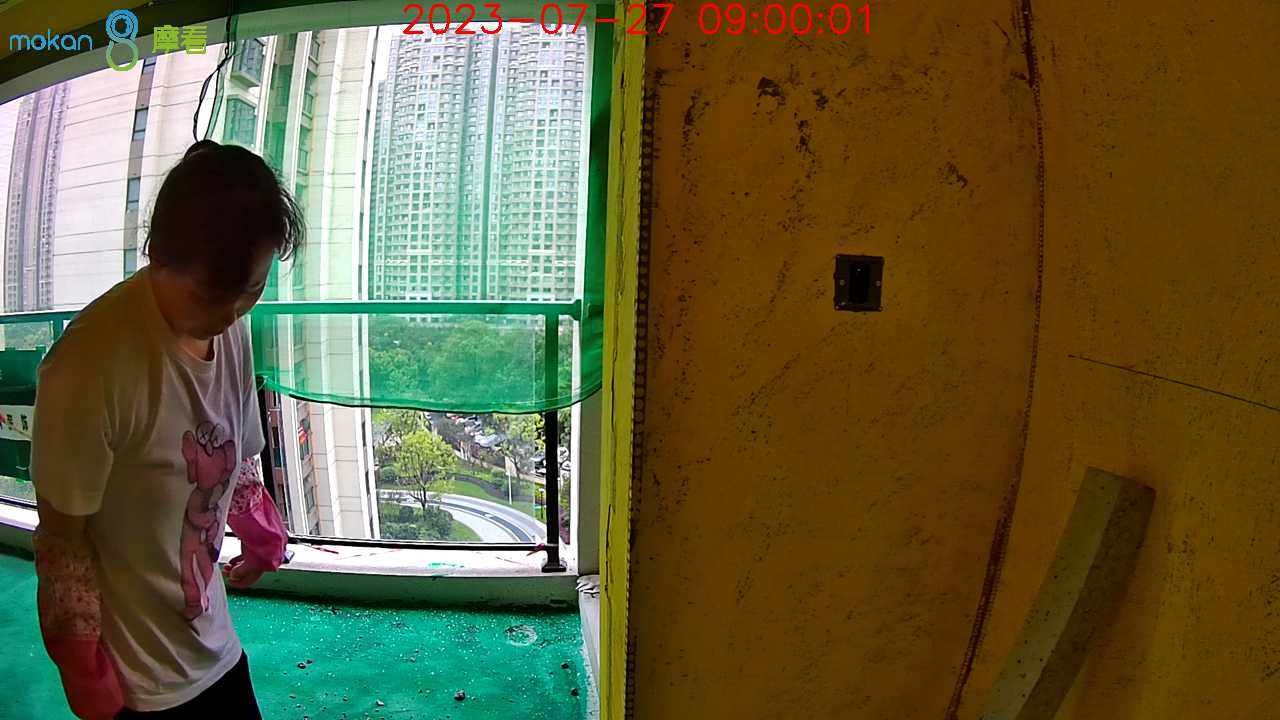people: (30, 142, 306, 719)
window: (1, 51, 577, 580)
